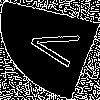V: (25, 25, 93, 70)
